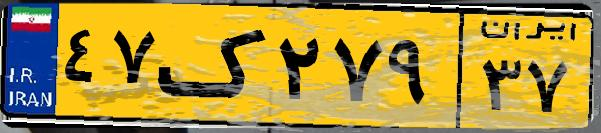2: (270, 28, 330, 110)
3: (475, 38, 525, 113)
4: (57, 26, 110, 100)
7: (330, 28, 385, 110), (525, 38, 570, 115), (110, 28, 158, 98)
9: (385, 28, 445, 110)
ک: (158, 12, 270, 120)
